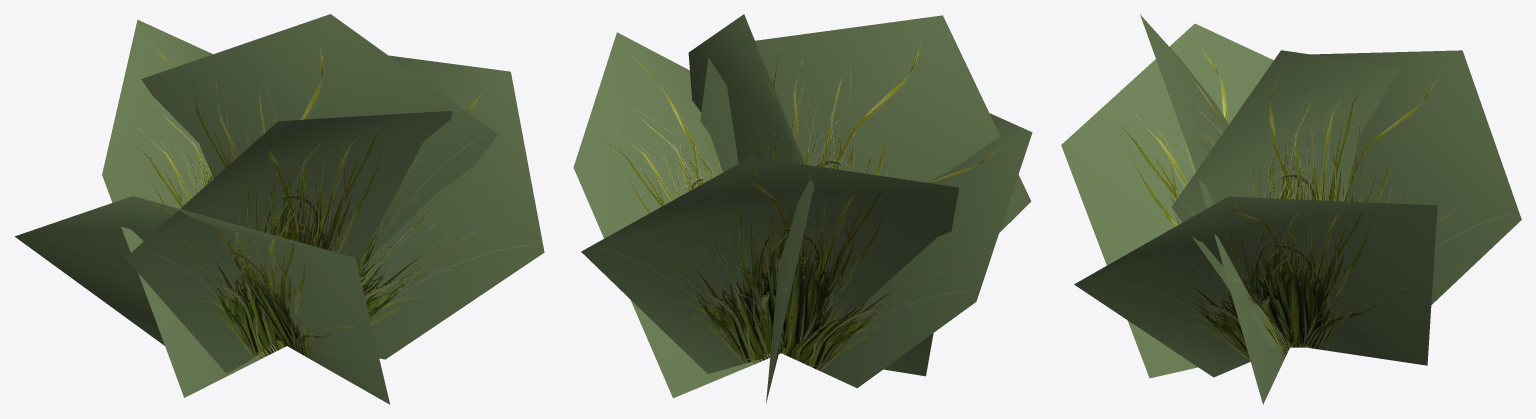
Rendered from DF_JP_Grass_02.fbx.
3 views of the same model, side by side, from view 1: azimuth 30°, elevation 25°; view 2: azimuth 150°, elevation 25°; view 3: azimuth 270°, elevation 25° (orthographic). The views are drawn at different scales.
Visible parts, largest first — view 1: DF_JP_Grass_02_LOD0; view 2: DF_JP_Grass_02_LOD0; view 3: DF_JP_Grass_02_LOD0.
Boxes of the visible parts, <box> form: DF_JP_Grass_02_LOD0: <box>14,14,544,404</box>; DF_JP_Grass_02_LOD0: <box>573,14,1032,403</box>; DF_JP_Grass_02_LOD0: <box>1061,14,1521,404</box>.
Size of what is drawn, in the model's own units: 91.83 by 69.93 by 87.98.
